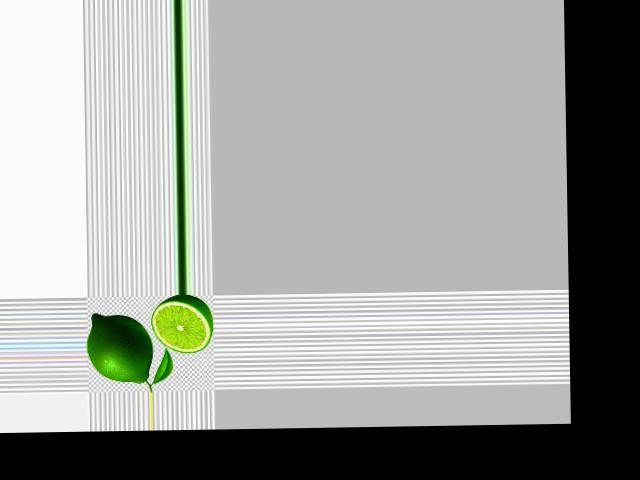lemon: (87, 309, 163, 385)
